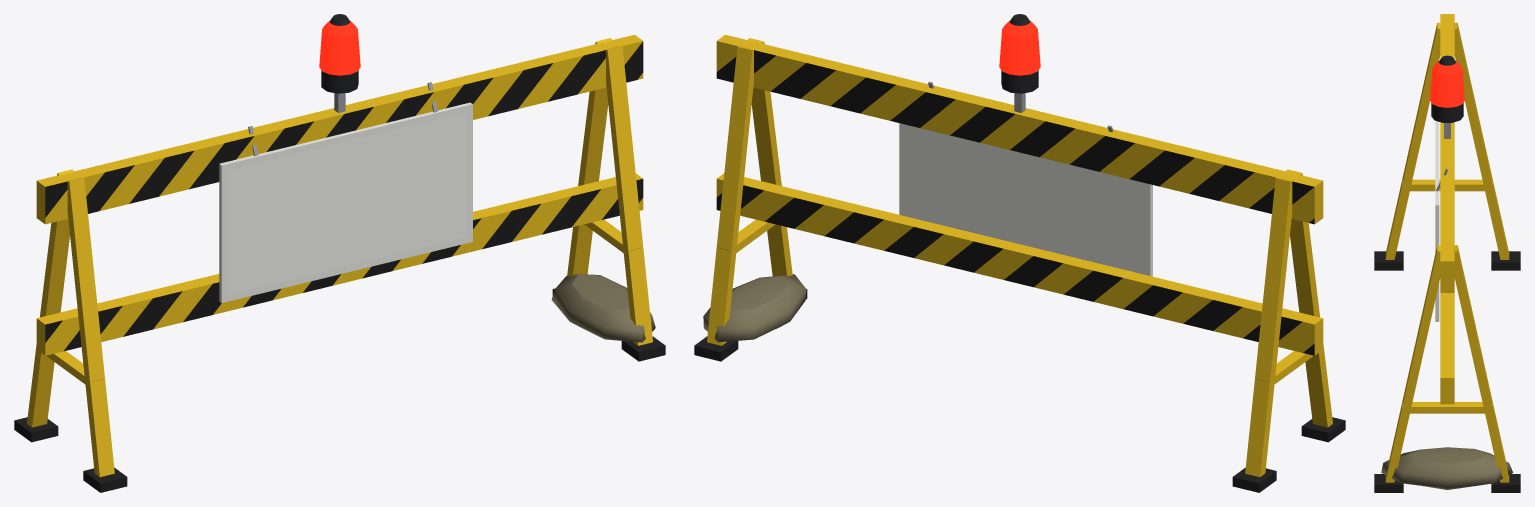
The model's file is road_barrier.glb.
3 renders of one model, left to right at view 1: azimuth 30°, elevation 25°; view 2: azimuth 150°, elevation 25°; view 3: azimuth 270°, elevation 25°, orthographic. The views are drawn at different scales.
Visible parts, largest first — view 1: road_barrier; view 2: road_barrier; view 3: road_barrier.
Part boxes in pixels (<box>): road_barrier: <box>14,14,665,492</box>; road_barrier: <box>694,14,1345,492</box>; road_barrier: <box>1374,14,1520,492</box>.
Bounding box in the file's own units: 2 × 1.2 × 0.5.
